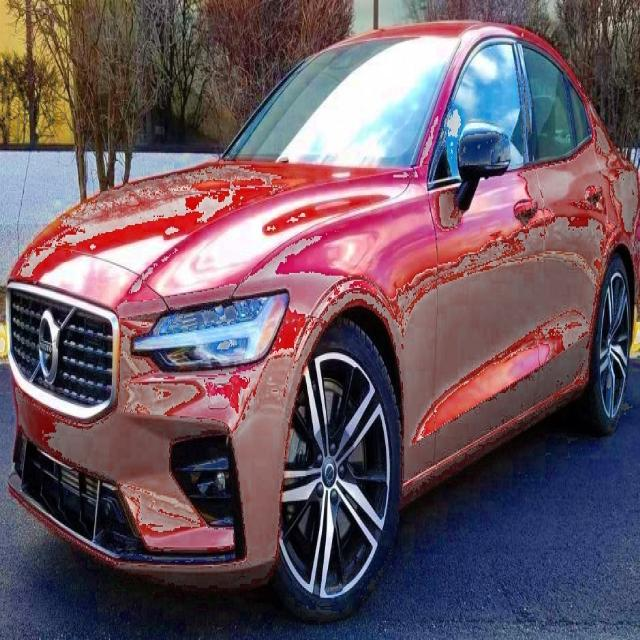maroon: (15, 0, 640, 565)
